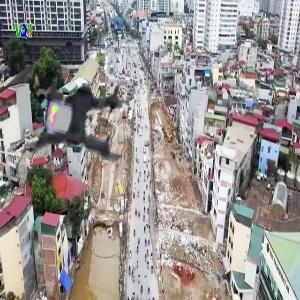drone: (16, 53, 147, 184)
